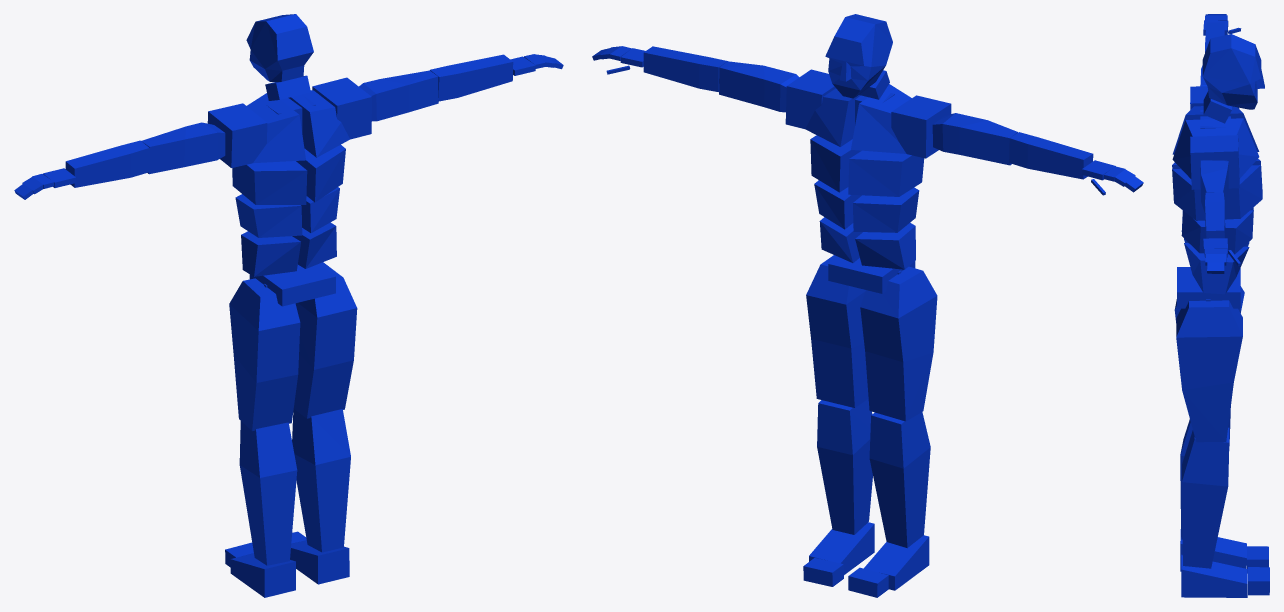
File: generic.FBX
3 views of the same model, side by side, from view 1: azimuth 30°, elevation 25°; view 2: azimuth 150°, elevation 25°; view 3: azimuth 270°, elevation 25° (orthographic). The views are drawn at different scales.
Parts seen in each view (by area): view 1: Mesh_figur; view 2: Mesh_figur; view 3: Mesh_figur.
Boxes of the visible parts, <box> form: Mesh_figur: <box>14,14,563,597</box>; Mesh_figur: <box>592,14,1143,597</box>; Mesh_figur: <box>1172,14,1269,597</box>.
Bounding box in the file's own units: 1.85 × 0.2976 × 1.8.
